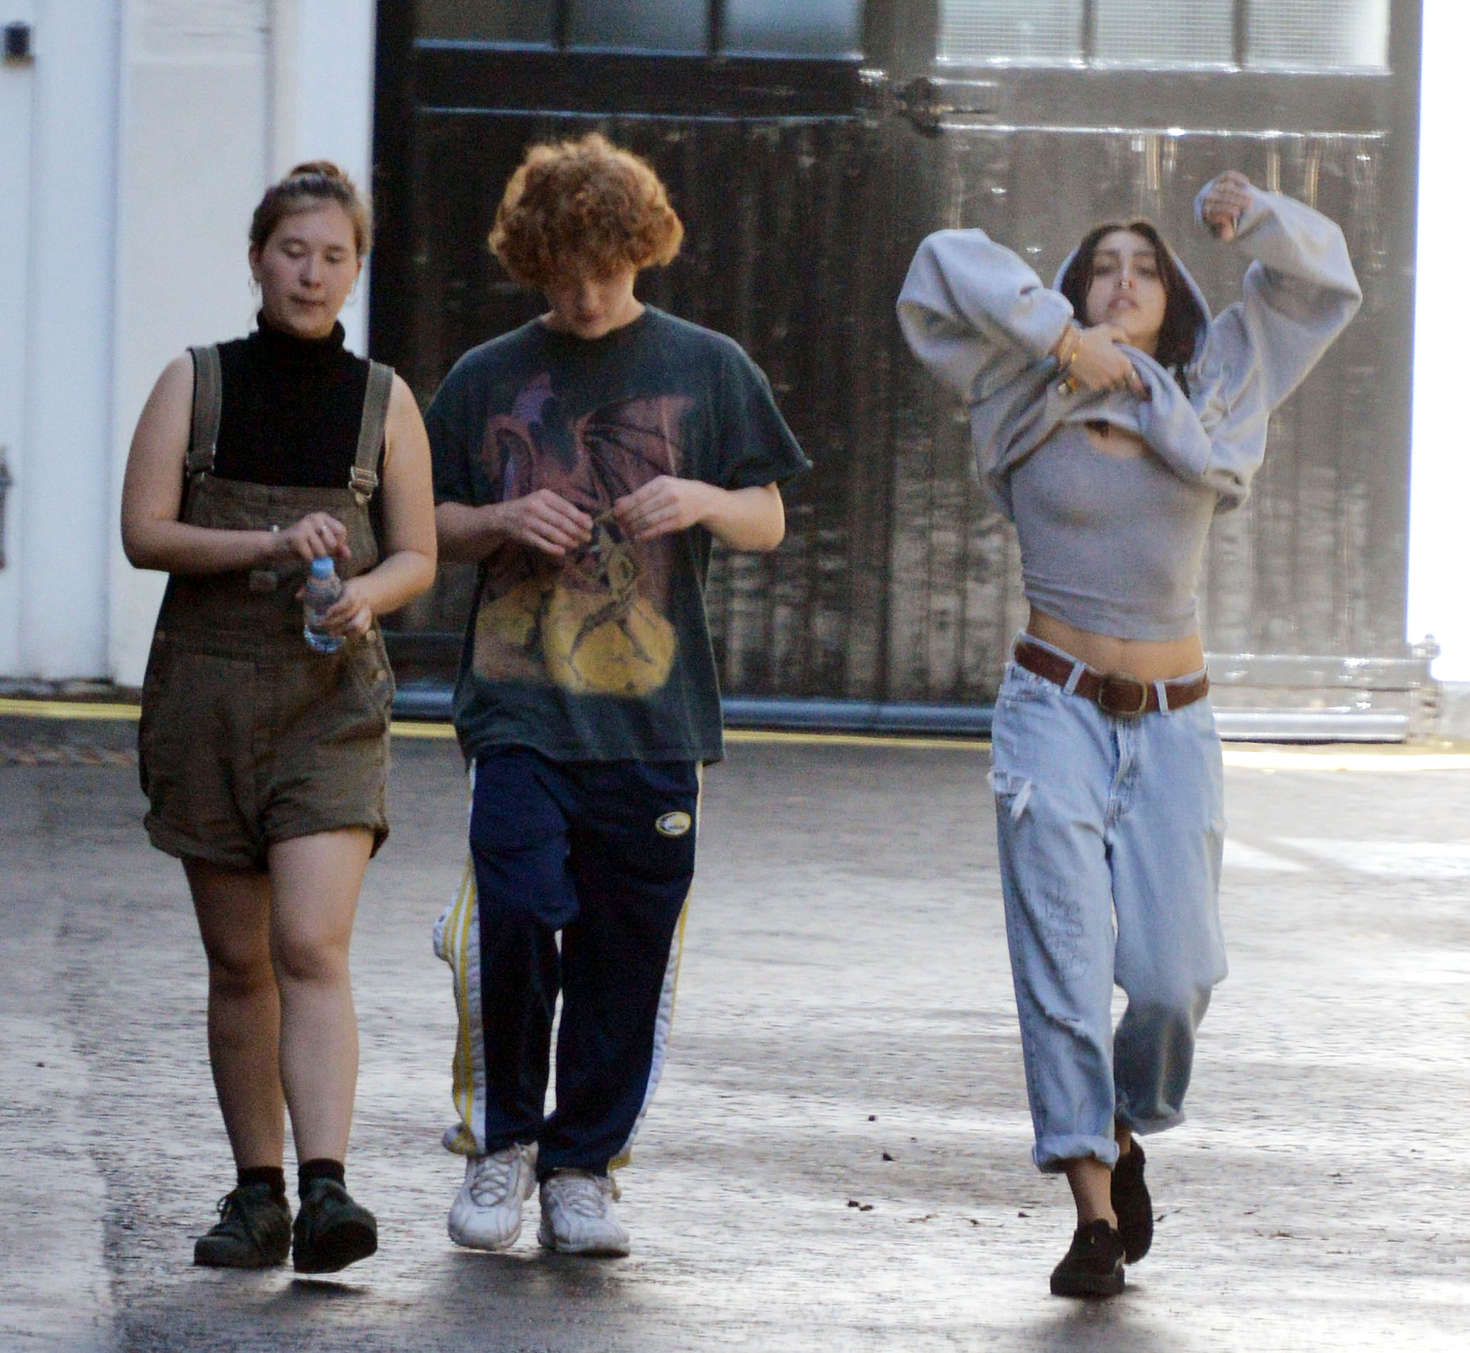Person: (897, 166, 1378, 1316), (420, 129, 826, 1279), (110, 152, 455, 1294)
